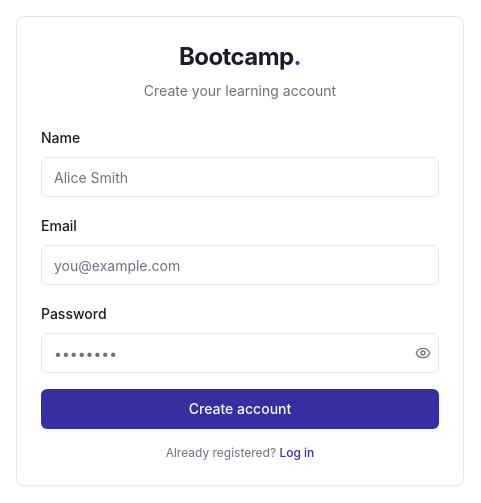
Test: Register › toggles password visibility without changing the field value
The width and height of the screenshot is (481, 503).
Type "Password1" into the password field labelled "Password" at (240, 353), box [41,333,439,373]
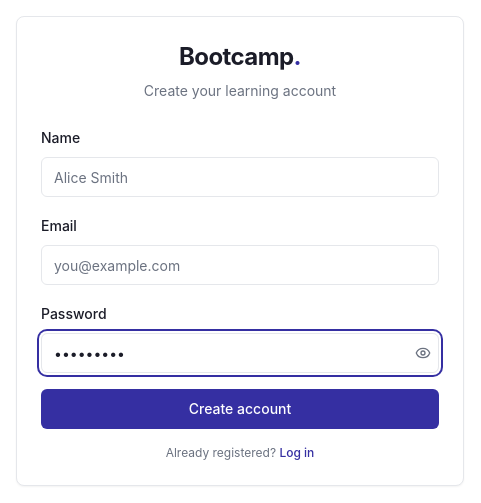
Click the button named "Show password" at (423, 353), box [415,345,431,361]
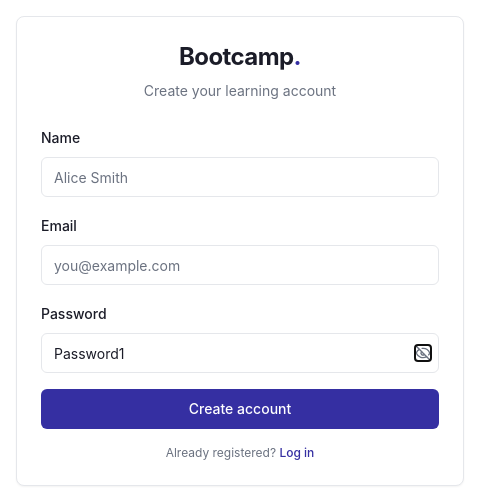
Check: the field labelled "Password" shows its text, box [41,333,439,373]
Click the button named "Hide password" at (423, 353), box [415,345,431,361]
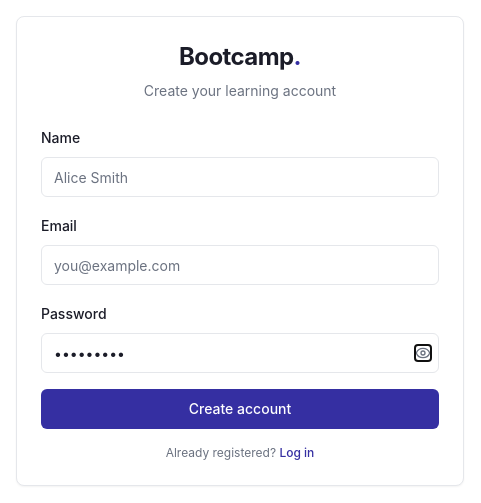
Check: the password field labelled "Password" hides its text, box [41,333,439,373]
